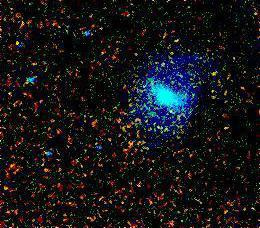star: (146, 114, 176, 144)
